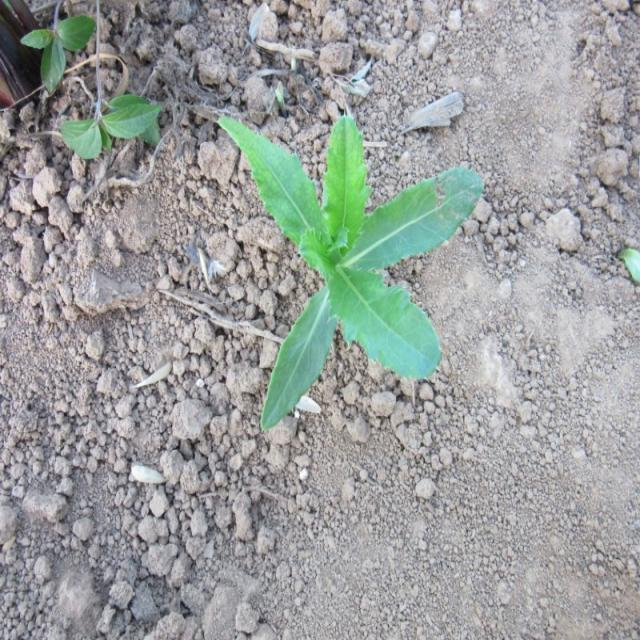cs: (216, 100, 485, 434)
